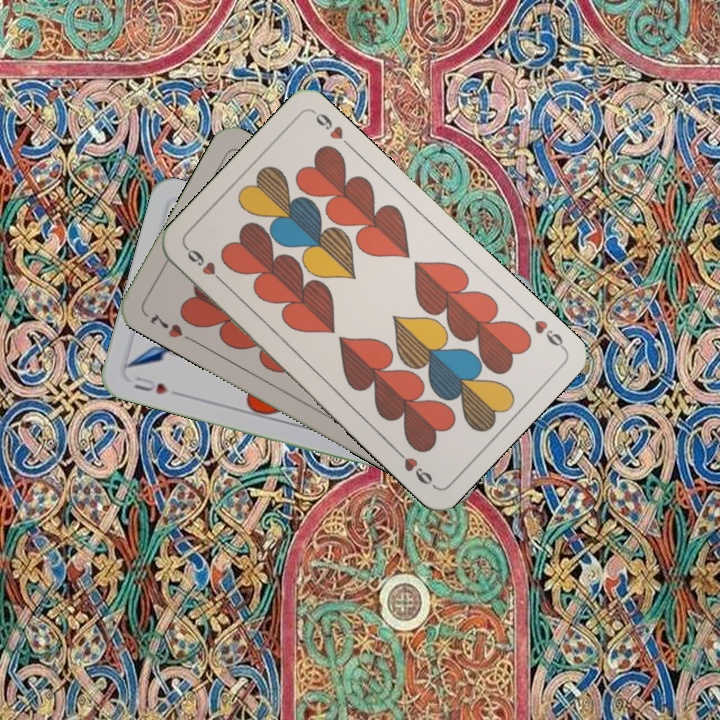H7: (146, 308, 196, 344)
H9: (181, 243, 229, 288), (521, 306, 567, 352)
HU: (130, 371, 182, 398)
